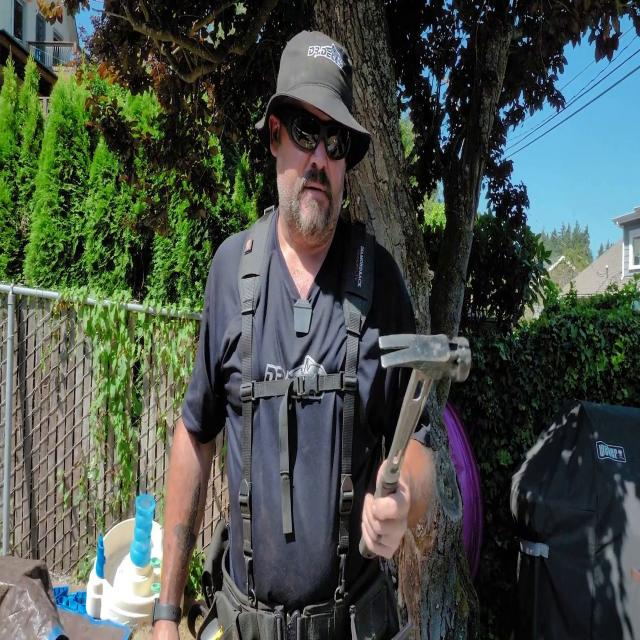hammer: (358, 333, 472, 559)
